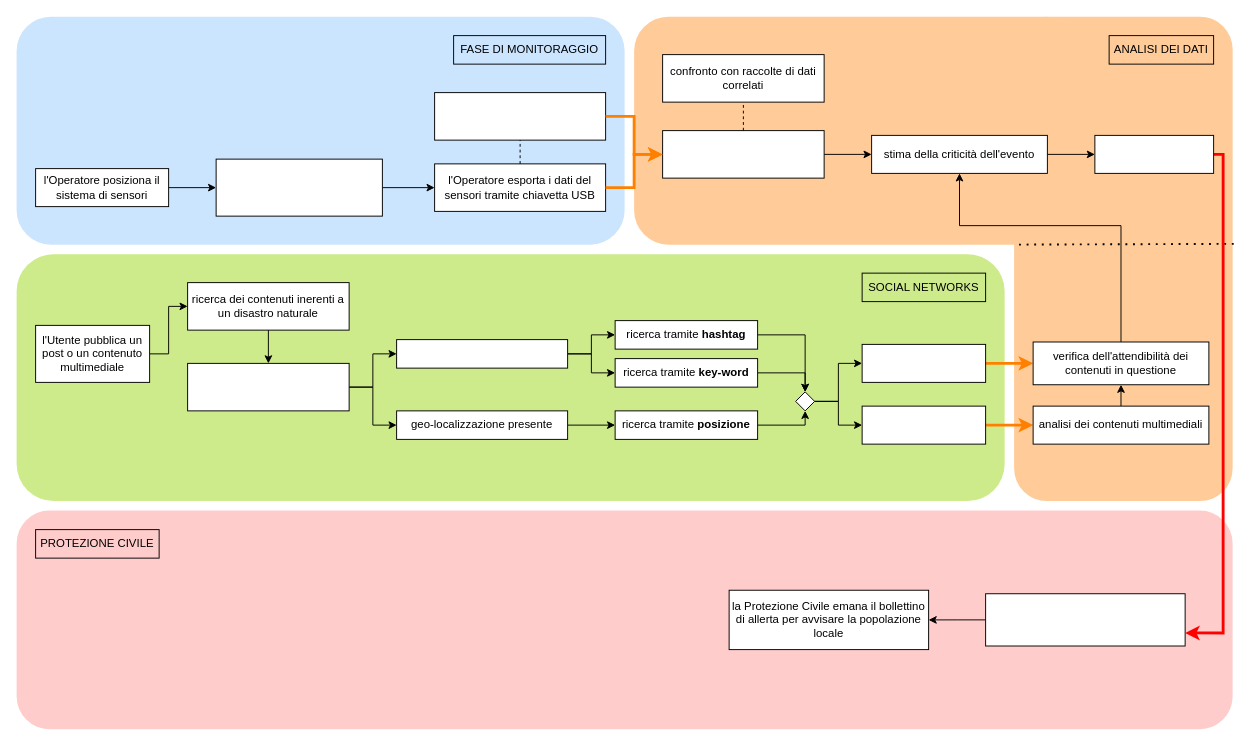
The diagram is 1252 pixels wide and 745 high, and some of its shapes have lost their labels. Each missing label, with the centre of its shape:
"confronto dei dati raccolti con le soglie minime di pericolo" goes at point 743,154.
"contenuti multimediali non presenti" goes at point 923,362.
"contenuti multimediali presenti" goes at point 923,424.
"criticità medio-alta" goes at point 1154,153.
"geo-localizzazione non presente" goes at point 482,353.
"il sistema di sensori registra i dati nella finestra temporale di riferimento" goes at point 298,187.
"l'Operatore raccoglie i dati dell'idrometro posizionato in loco" goes at point 520,116.
"la Protezione Civile viene allertata di un probabile disastro naturale in atto" goes at point 1085,619.
"verifica dell'affidabilità dell'Utente in questione" goes at point 268,386.
